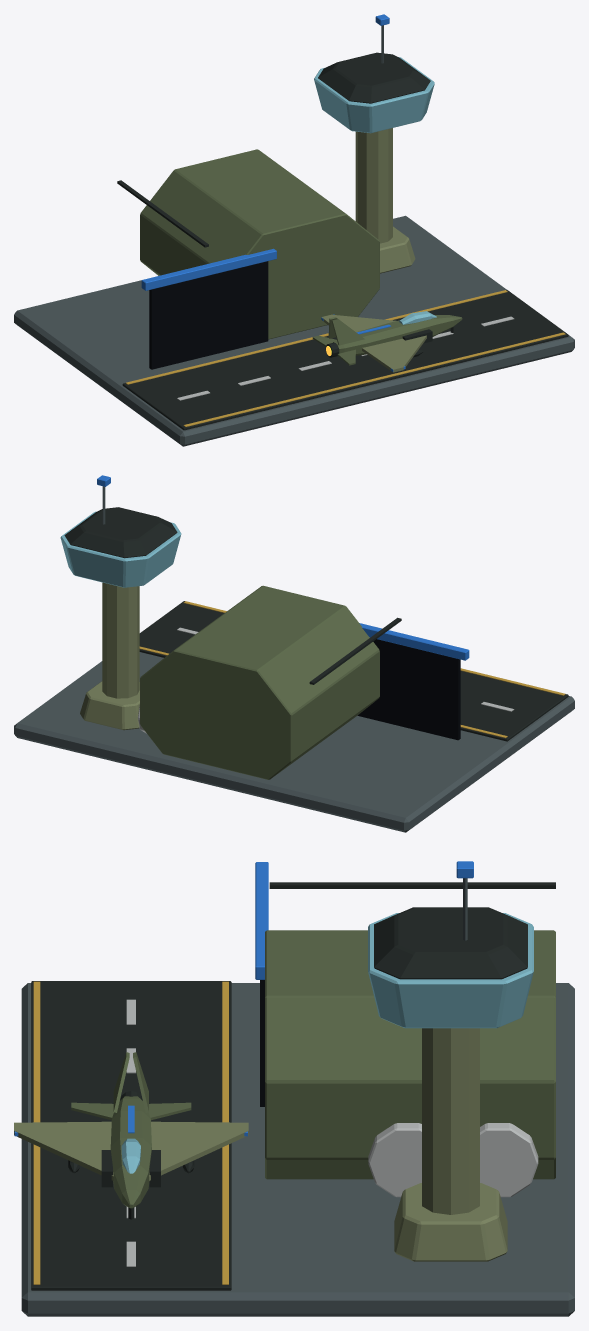
File: h_airfield.glb
3 renders of one model, top to bottom at view 1: azimuth 30°, elevation 25°; view 2: azimuth 150°, elevation 25°; view 3: azimuth 270°, elevation 25°, orthographic. The views are drawn at different scales.
Parts seen in each view (by area): view 1: Airfield; view 2: Airfield; view 3: Airfield.
Boxes of the visible parts, <box> form: Airfield: <box>14,14,574,446</box>; Airfield: <box>14,475,574,832</box>; Airfield: <box>14,861,574,1316</box>.
Size of the model in its own units: 7.8 by 4.72 by 5.88.
